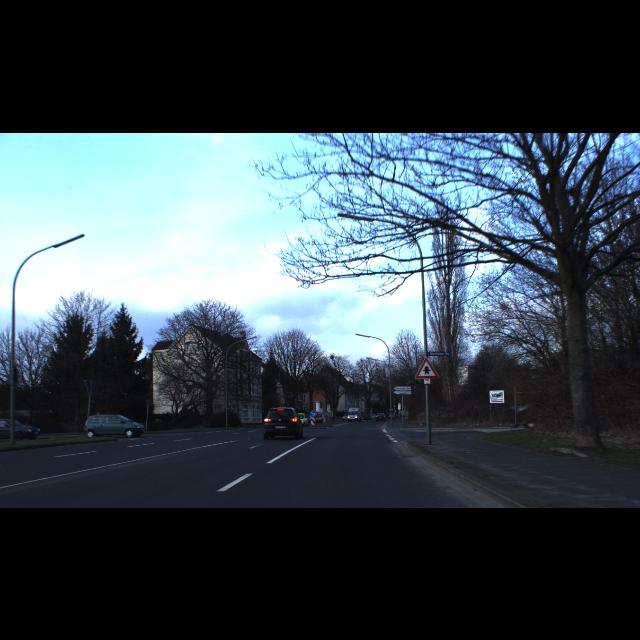danger: (414, 355, 440, 379)
mandatory: (310, 409, 316, 417)
